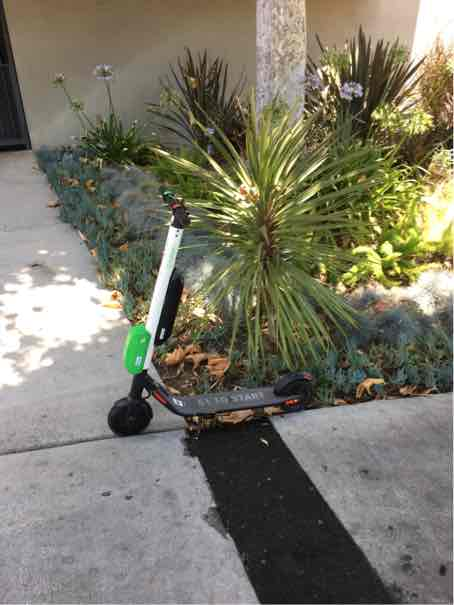scooter: (112, 171, 339, 440)
